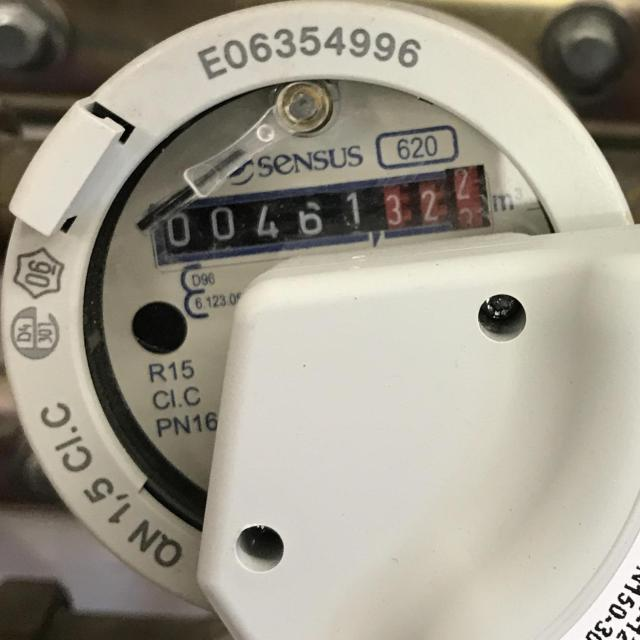gaz_meter: (0, 0, 636, 614)
indication: (147, 161, 497, 271)
